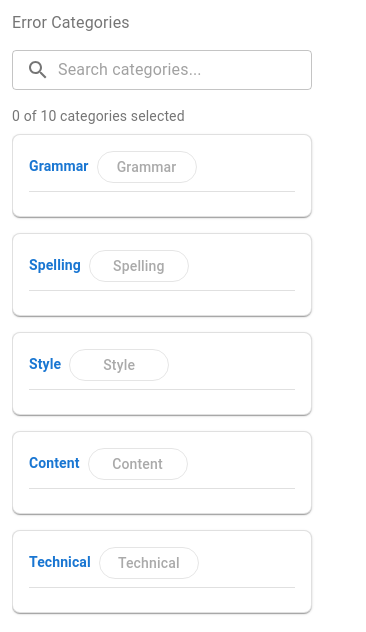
Scenario: ErrorCategorization - Enhanced Tests › Search Functionality › should show no results message when search yields no matches
This screenshot has width=366, height=632.
In the field with placeholder "Search categories...": (185, 70) [58, 50, 312, 90], type "nonexistent"
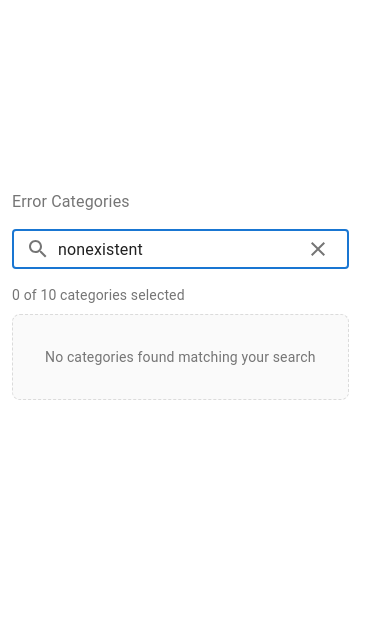
Expected: the text "No categories found matching your search" is shown, [45, 346, 316, 366]
